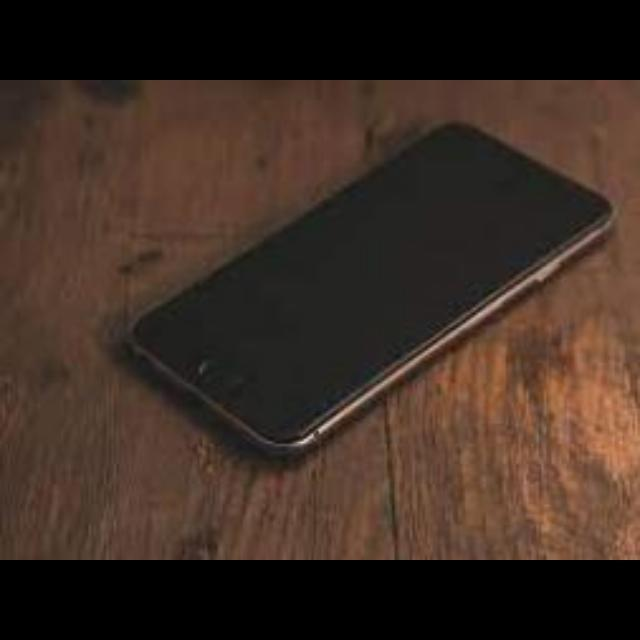PhoneUse: (124, 120, 614, 453)
